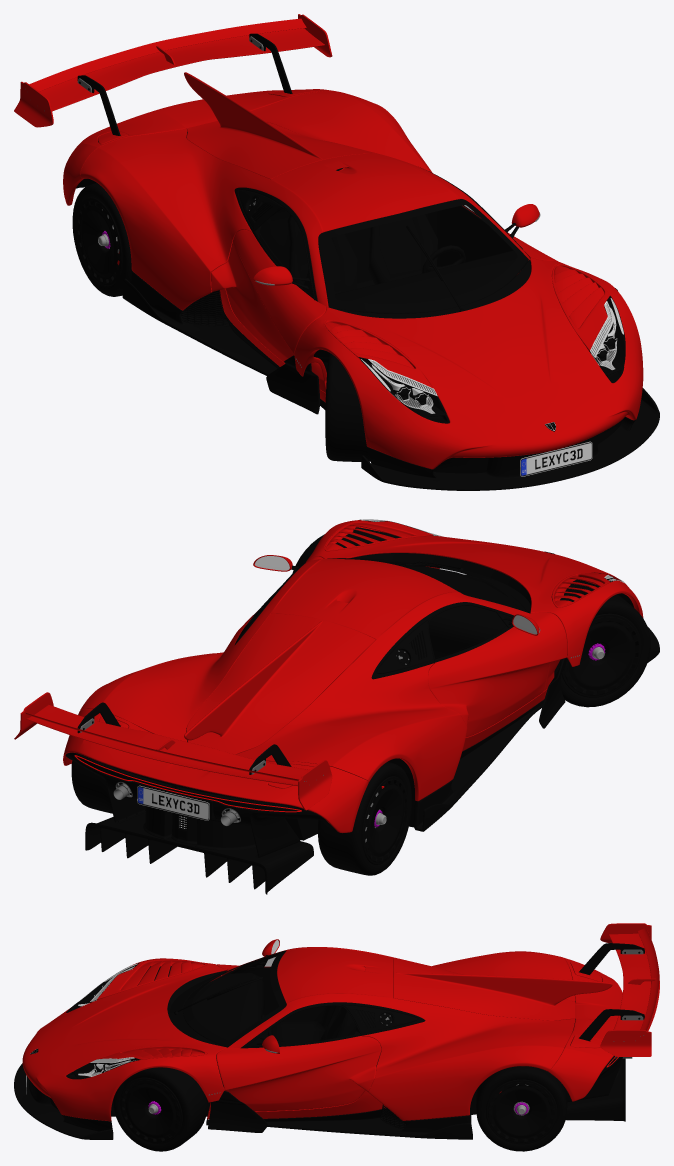
The model's file is free_rossa_gt_lm_prototype_2023.glb.
3 renders of one model, top to bottom at view 1: azimuth 30°, elevation 25°; view 2: azimuth 150°, elevation 25°; view 3: azimuth 270°, elevation 25°, orthographic. The views are drawn at different scales.
Parts seen in each view (by area): view 1: Object_30, Object_21, Object_31, Object_6, Object_13, Object_32, Object_42, Object_22, Object_41, Object_12, Object_25, Object_11 (+6 smaller); view 2: Object_30, Object_11, Object_31, Object_32, Object_42, Object_13, Object_21, Object_39, Object_6, Object_25, Object_41, Object_12 (+6 smaller); view 3: Object_30, Object_31, Object_13, Object_21, Object_6, Object_42, Object_32, Object_11, Object_40, Object_38, Object_22, Object_15 (+4 smaller).
Boxes of the visible parts, box(x1,y1,x2,y2) form: Object_30: box(63, 89, 642, 469); Object_21: box(255, 205, 625, 415); Object_31: box(64, 72, 643, 469); Object_6: box(258, 205, 517, 303); Object_13: box(122, 167, 659, 490); Object_32: box(14, 14, 332, 127); Object_42: box(72, 183, 617, 461); Object_22: box(318, 199, 613, 402); Object_41: box(76, 197, 122, 285); Object_12: box(182, 177, 624, 423); Object_25: box(76, 131, 622, 473); Object_11: box(81, 140, 531, 326); Object_30: box(63, 520, 643, 832); Object_11: box(65, 553, 531, 894); Object_31: box(65, 520, 607, 826); Object_32: box(14, 692, 332, 810); Object_42: box(71, 534, 650, 875); Object_13: box(238, 564, 659, 831); Object_21: box(74, 519, 624, 829); Object_39: box(560, 613, 641, 697); Object_6: box(401, 565, 517, 659); Object_25: box(75, 527, 634, 840); Object_41: box(362, 776, 407, 864); Object_12: box(234, 563, 513, 678); Object_30: box(22, 939, 622, 1120); Object_31: box(30, 947, 616, 1121); Object_13: box(14, 955, 472, 1139); Object_21: box(74, 954, 618, 1078); Object_6: box(191, 953, 361, 1045); Object_42: box(113, 973, 567, 1151); Object_32: box(600, 923, 659, 1056); Object_11: box(167, 971, 625, 1121); Object_40: box(486, 1079, 557, 1144); Object_38: box(120, 1077, 182, 1143); Object_22: box(94, 950, 285, 1071); Object_15: box(579, 943, 644, 1041).
Bounding box in the file's own units: 2.57 × 1.27 × 5.61.
21 materials, 1 textured.
